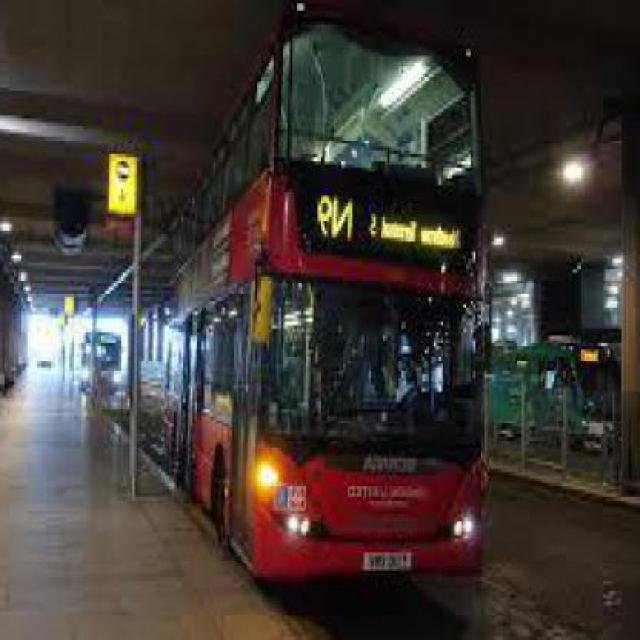bus: (165, 26, 484, 577)
